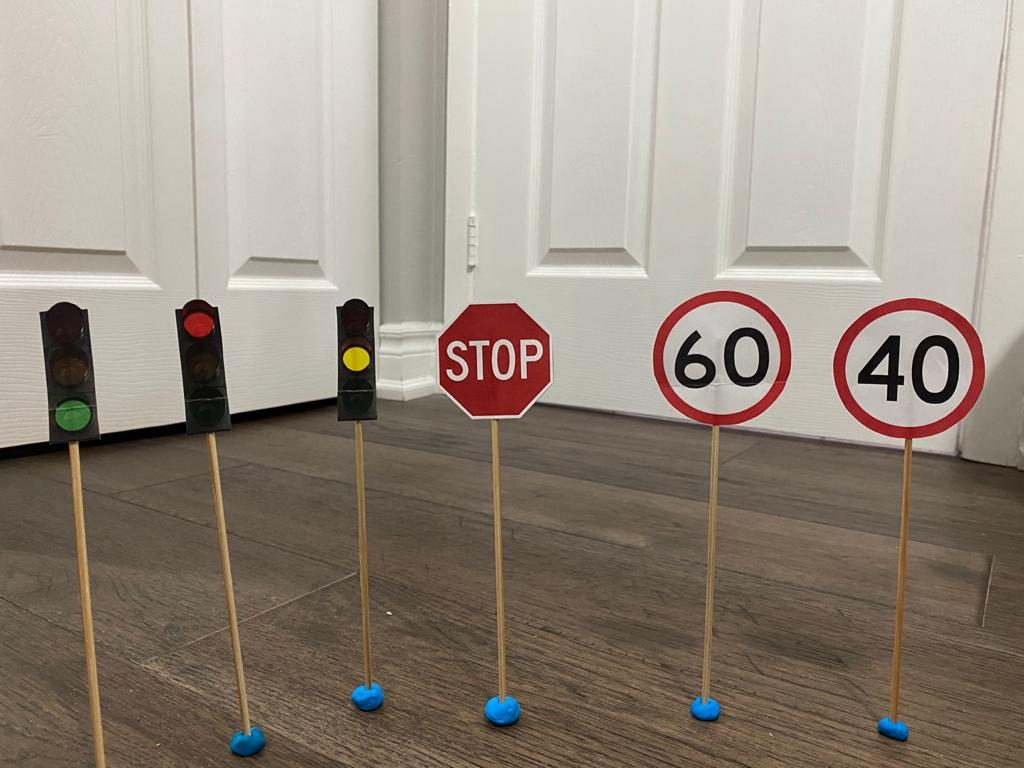Green Traffic Light: (37, 294, 102, 454)
Red Traffic Light: (175, 290, 237, 446)
Speed Limit 40: (828, 296, 991, 445)
Speed Limit 60: (645, 283, 796, 427)
Stop Sign: (429, 297, 558, 425)
Yellow Traffic Light: (328, 294, 382, 429)
